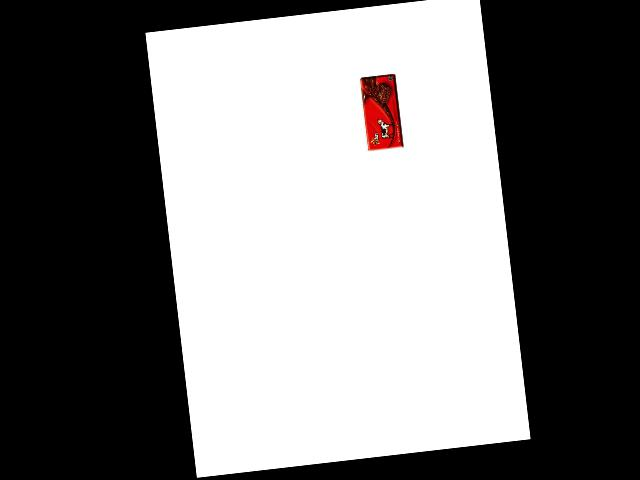chocolate: (352, 72, 396, 145)
